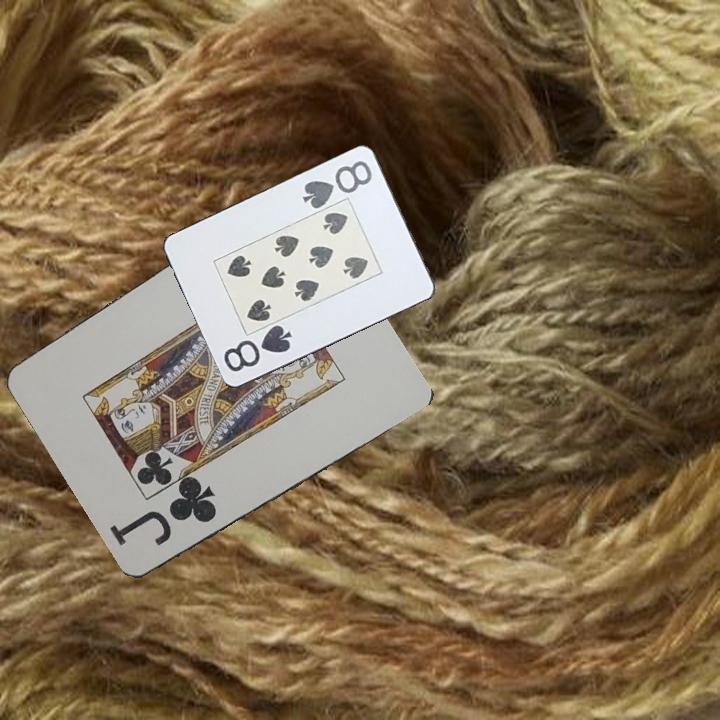8s: (299, 157, 375, 212), (220, 322, 295, 375)
Jc: (109, 477, 220, 550)
